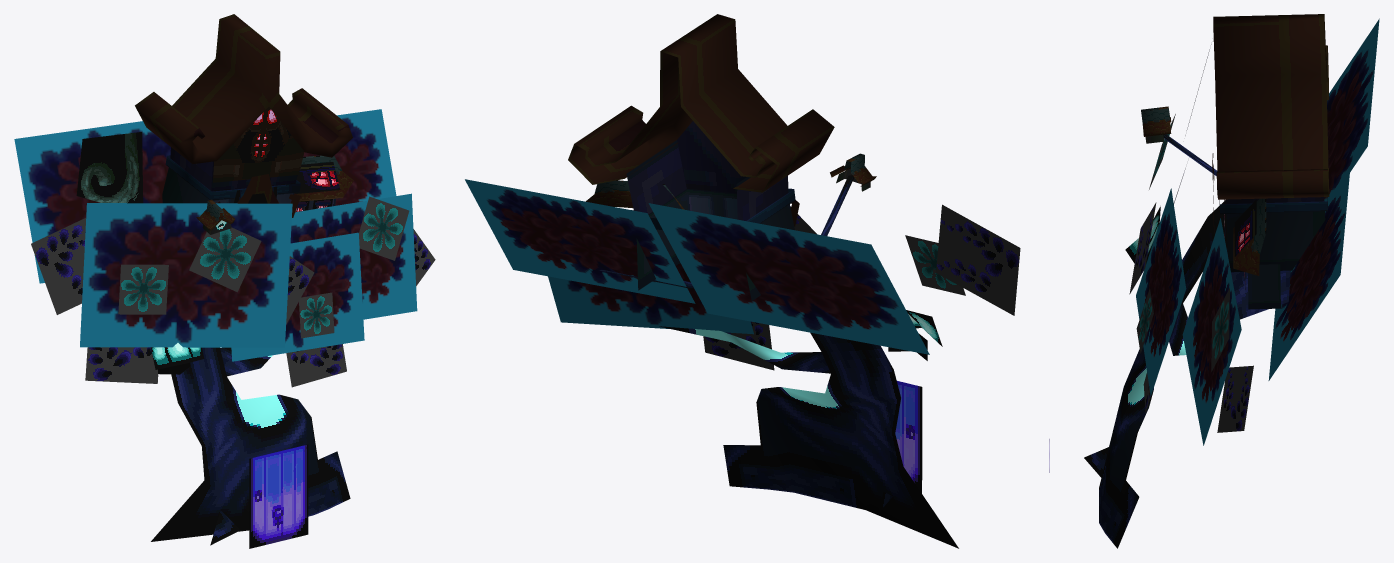
3 renders of one model, left to right at view 1: azimuth 30°, elevation 25°; view 2: azimuth 150°, elevation 25°; view 3: azimuth 270°, elevation 25°, orthographic. The views are drawn at different scales.
Parts seen in each view (by area): view 1: kami_door04; view 2: kami_door04; view 3: kami_door04.
Boxes of the visible parts, x1,y1,x2,y2 form: kami_door04: [14, 14, 435, 548]; kami_door04: [465, 14, 1020, 548]; kami_door04: [1049, 14, 1379, 548].
Bounding box in the file's own units: 6 × 5.88 × 3.44.
17 materials, 17 textured.
